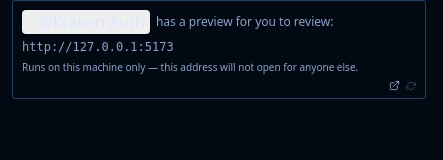
it: a preview card opens its own agent's port, or refuses › REFUSES when the agent has no preview any more — the server died under the card
Double-click the element with test id "concierge-preview-card" at [219, 50], box [12,0,426,99]
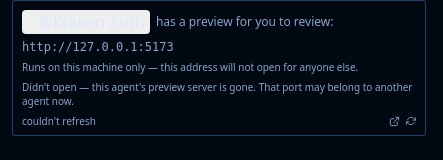
Result: the message with test id "concierge-preview-refused" shows "Didn't open — this agent's preview server is gone. That port may belong to another agent now." at [22,80,412,108]
